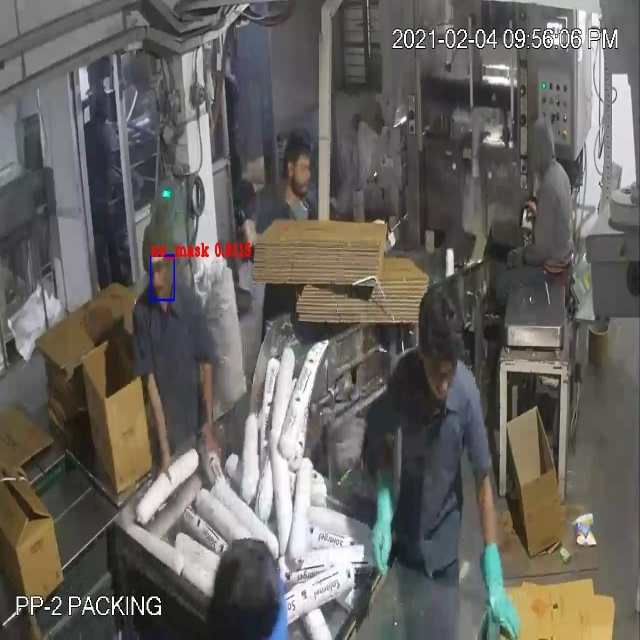Guantes: (477, 466, 522, 640), (371, 453, 398, 586)
Sin_guantes: (136, 355, 180, 501), (192, 348, 229, 473)
